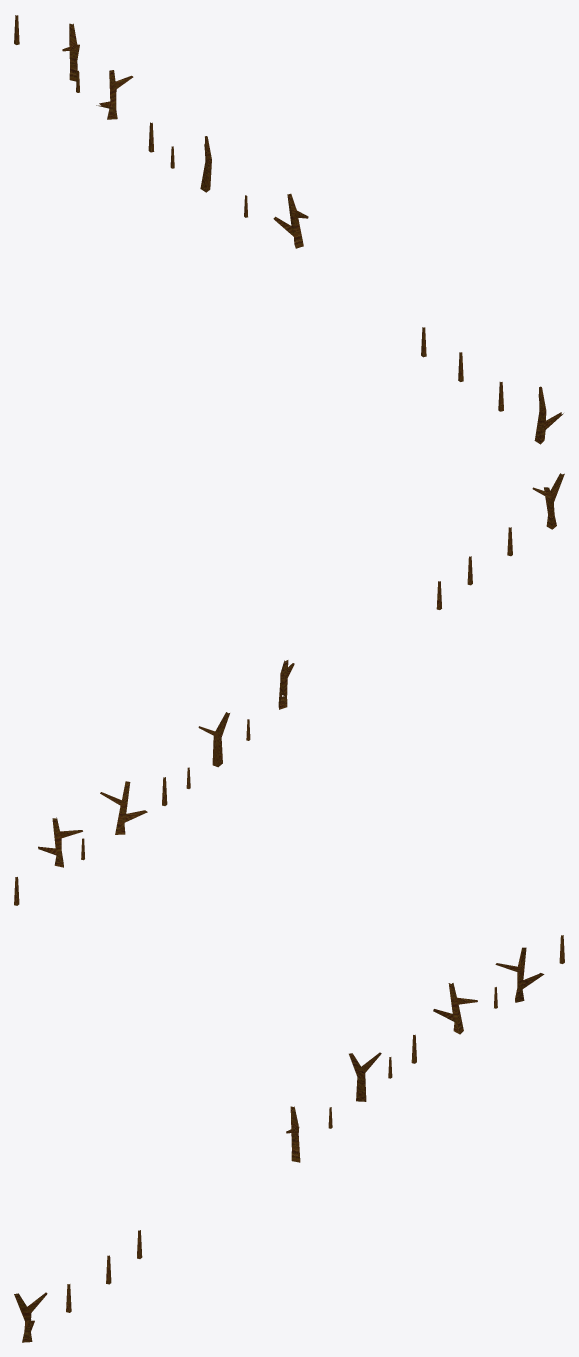
Rendered from trees01.glb.
3 views of the same model, one above another, from view 1: azimuth 30°, elevation 25°; view 2: azimuth 150°, elevation 25°; view 3: azimuth 330°, elevation 25° (orthographic). The views are drawn at different scales.
Parts seen in each view (by area): view 1: trees01; view 2: trees01; view 3: trees01.
Part boxes in pixels (x1,y1,x2,y2): trees01: (14,15,563,444); trees01: (14,473,564,905); trees01: (14,935,564,1342).
Size of the model in its own units: 659 by 670 by 12297.
Materials: 1 (1 with a texture image).
